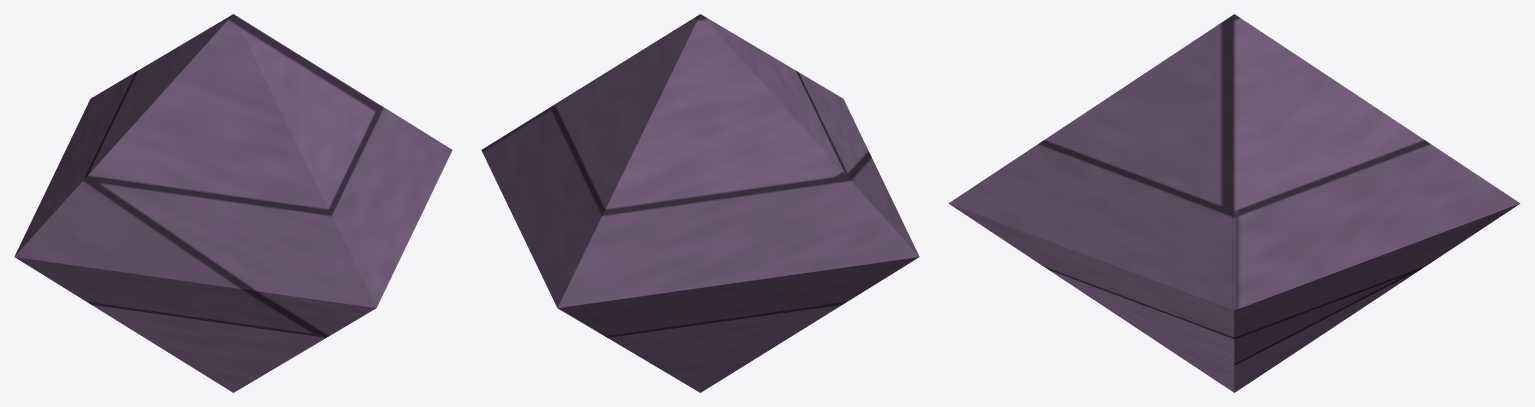
The picture shows the model from 3 angles, left to right: view 1: azimuth 30°, elevation 25°; view 2: azimuth 150°, elevation 25°; view 3: azimuth 270°, elevation 25°; orthographic projection.
Parts seen in each view (by area): view 1: geometry_0; view 2: geometry_0; view 3: geometry_0.
Boxes of the visible parts, left/top/right/bottom form: geometry_0: left=14, top=14, right=452, bottom=392; geometry_0: left=481, top=14, right=919, bottom=392; geometry_0: left=948, top=14, right=1520, bottom=392.
Size of the model in its own units: 1.22 by 1 by 1.37.
1 material, 1 textured.
